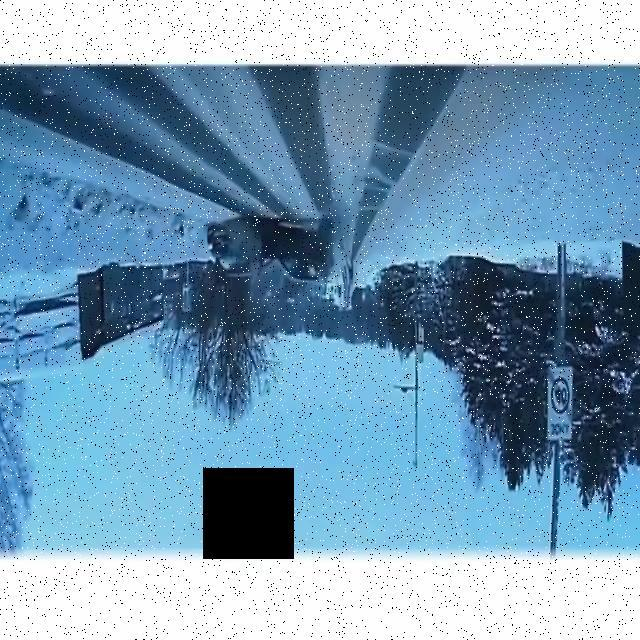moderate: (206, 212, 336, 288)
